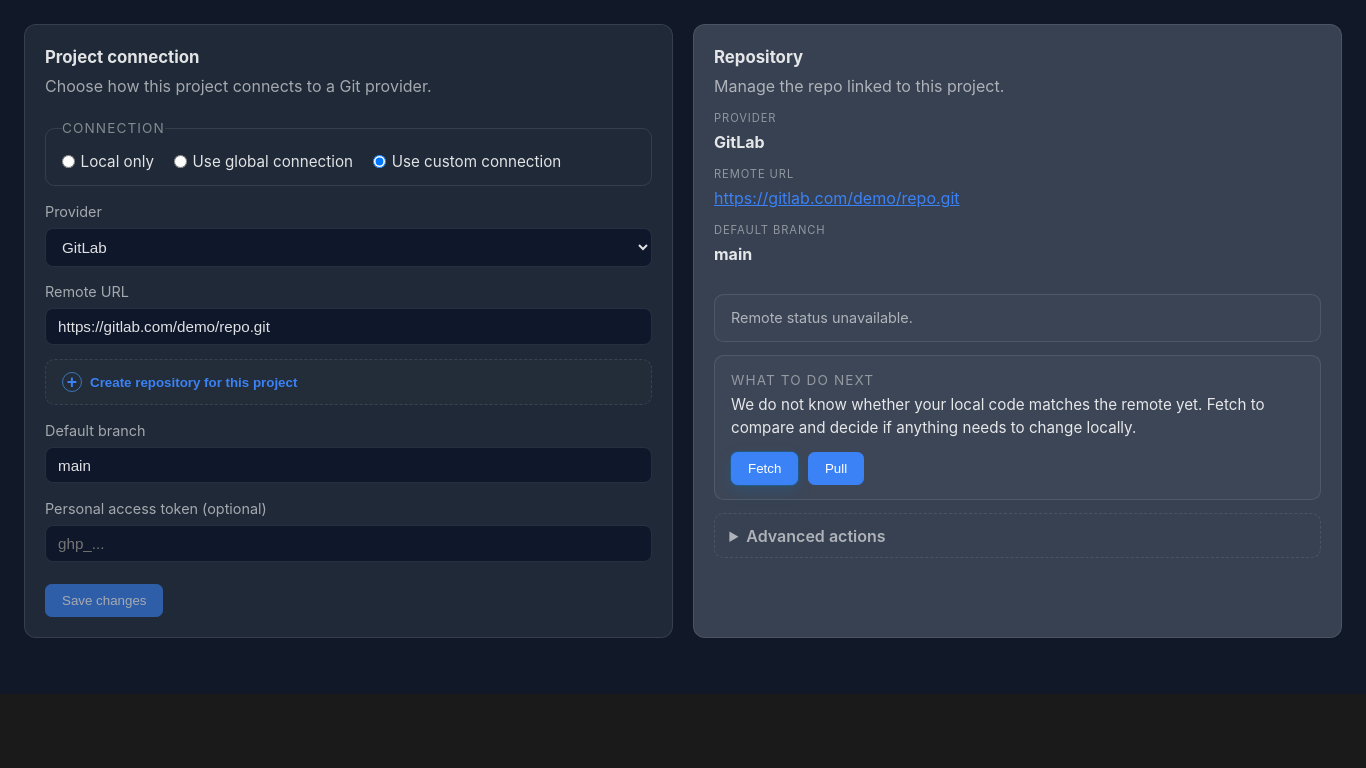
GitTab › shows global connection banner only when global mode selected
This screenshot has width=1366, height=768.
Click the radio button with test id "project-connection-global".
click(180, 162)  # box [174,156,187,168]
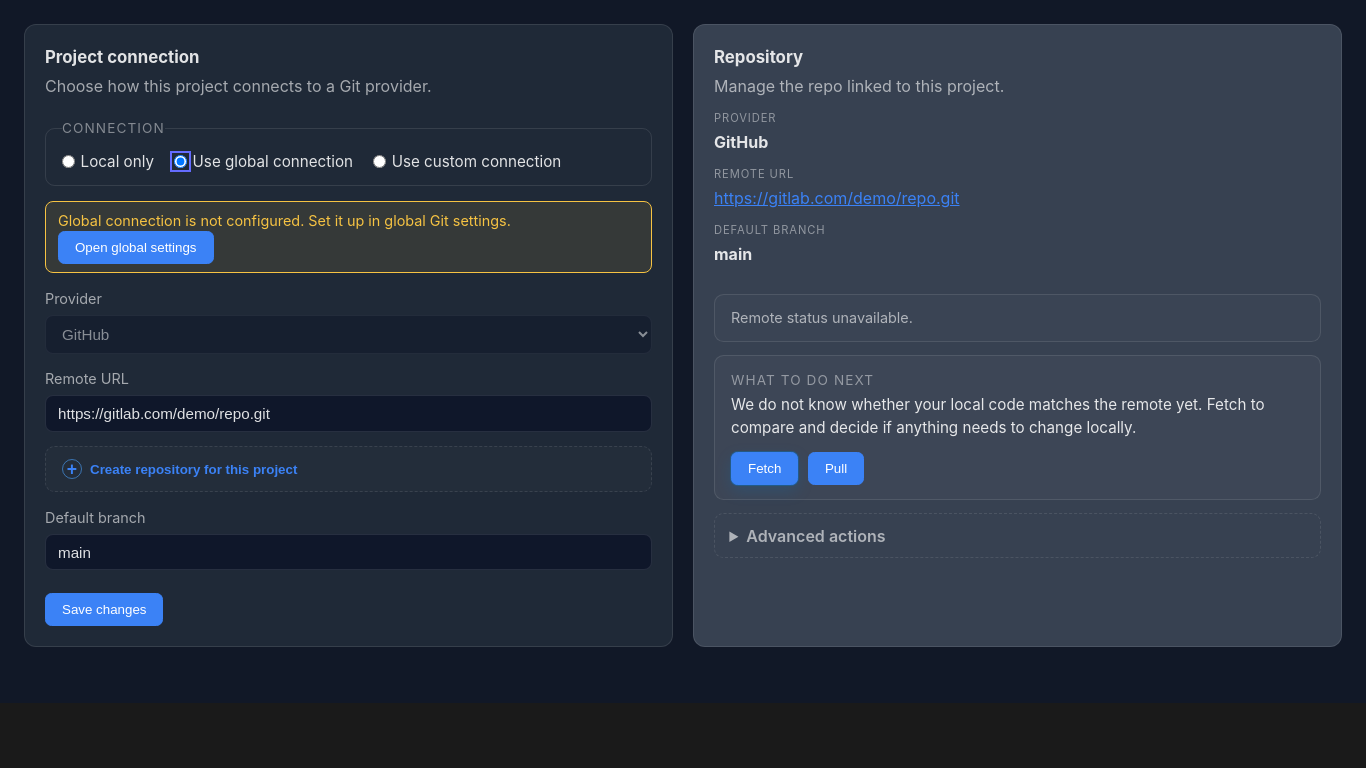
Result: the message with test id "git-global-connection-alert" is shown at [45,201,652,273]
